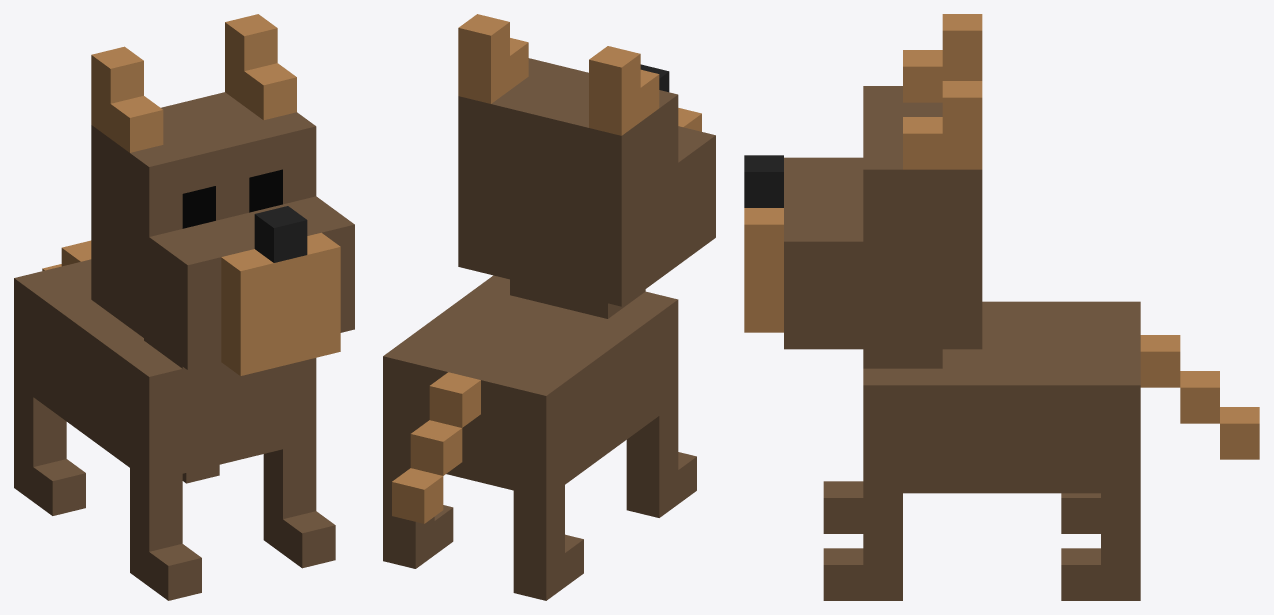
Rendered from dog.glb.
3 views of the same model, side by side, from view 1: azimuth 30°, elevation 25°; view 2: azimuth 150°, elevation 25°; view 3: azimuth 270°, elevation 25° (orthographic). The views are drawn at different scales.
Visible parts, largest first — view 1: Node; view 2: Node; view 3: Node.
Boxes of the visible parts, bbox=[...] form: Node: bbox=[14, 14, 354, 600]; Node: bbox=[383, 14, 715, 600]; Node: bbox=[744, 14, 1259, 600].
Bounding box in the file's own units: 0.5 × 1.4 × 1.3.
1 material, 1 textured.
